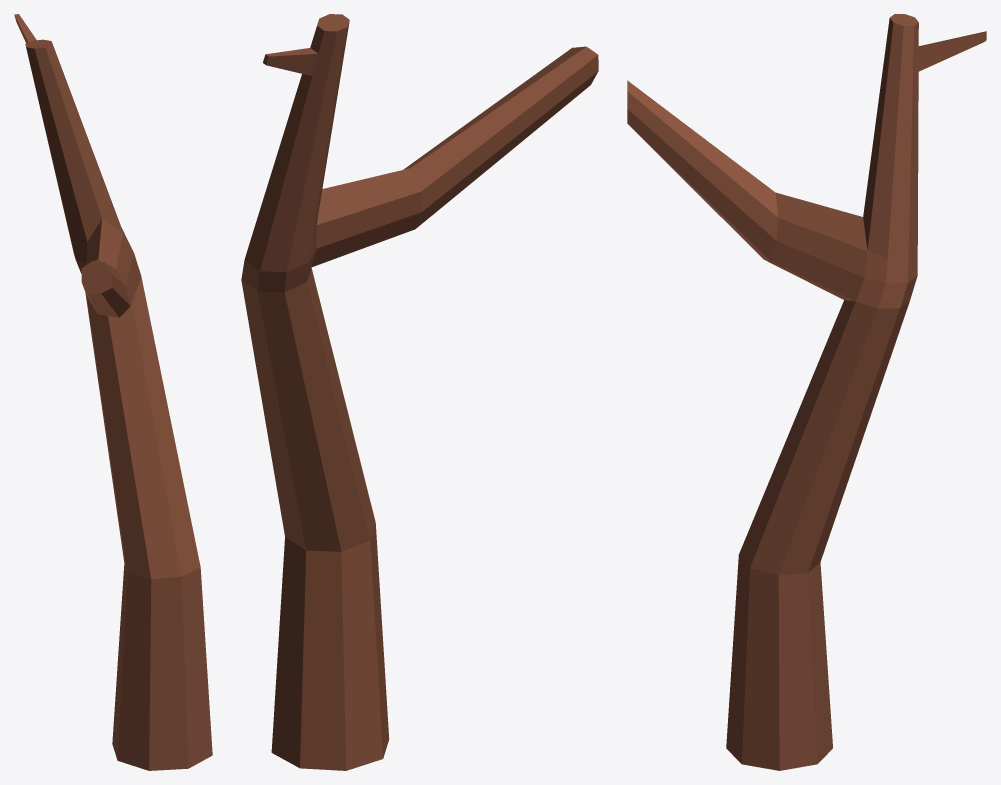
Rendered from Tree_02_spring_mat.fbx.
The picture shows the model from 3 angles, left to right: view 1: azimuth 30°, elevation 25°; view 2: azimuth 150°, elevation 25°; view 3: azimuth 270°, elevation 25°; orthographic projection. The views are drawn at different scales.
Visible parts, largest first — view 1: Tree_02_spring_mat; view 2: Tree_02_spring_mat; view 3: Tree_02_spring_mat.
Part boxes in pixels (bbox=[...]): Tree_02_spring_mat: bbox=[14, 14, 212, 770]; Tree_02_spring_mat: bbox=[241, 14, 598, 770]; Tree_02_spring_mat: bbox=[627, 14, 986, 770].
Bounding box in the file's own units: 1.63 × 5.29 × 2.46.
